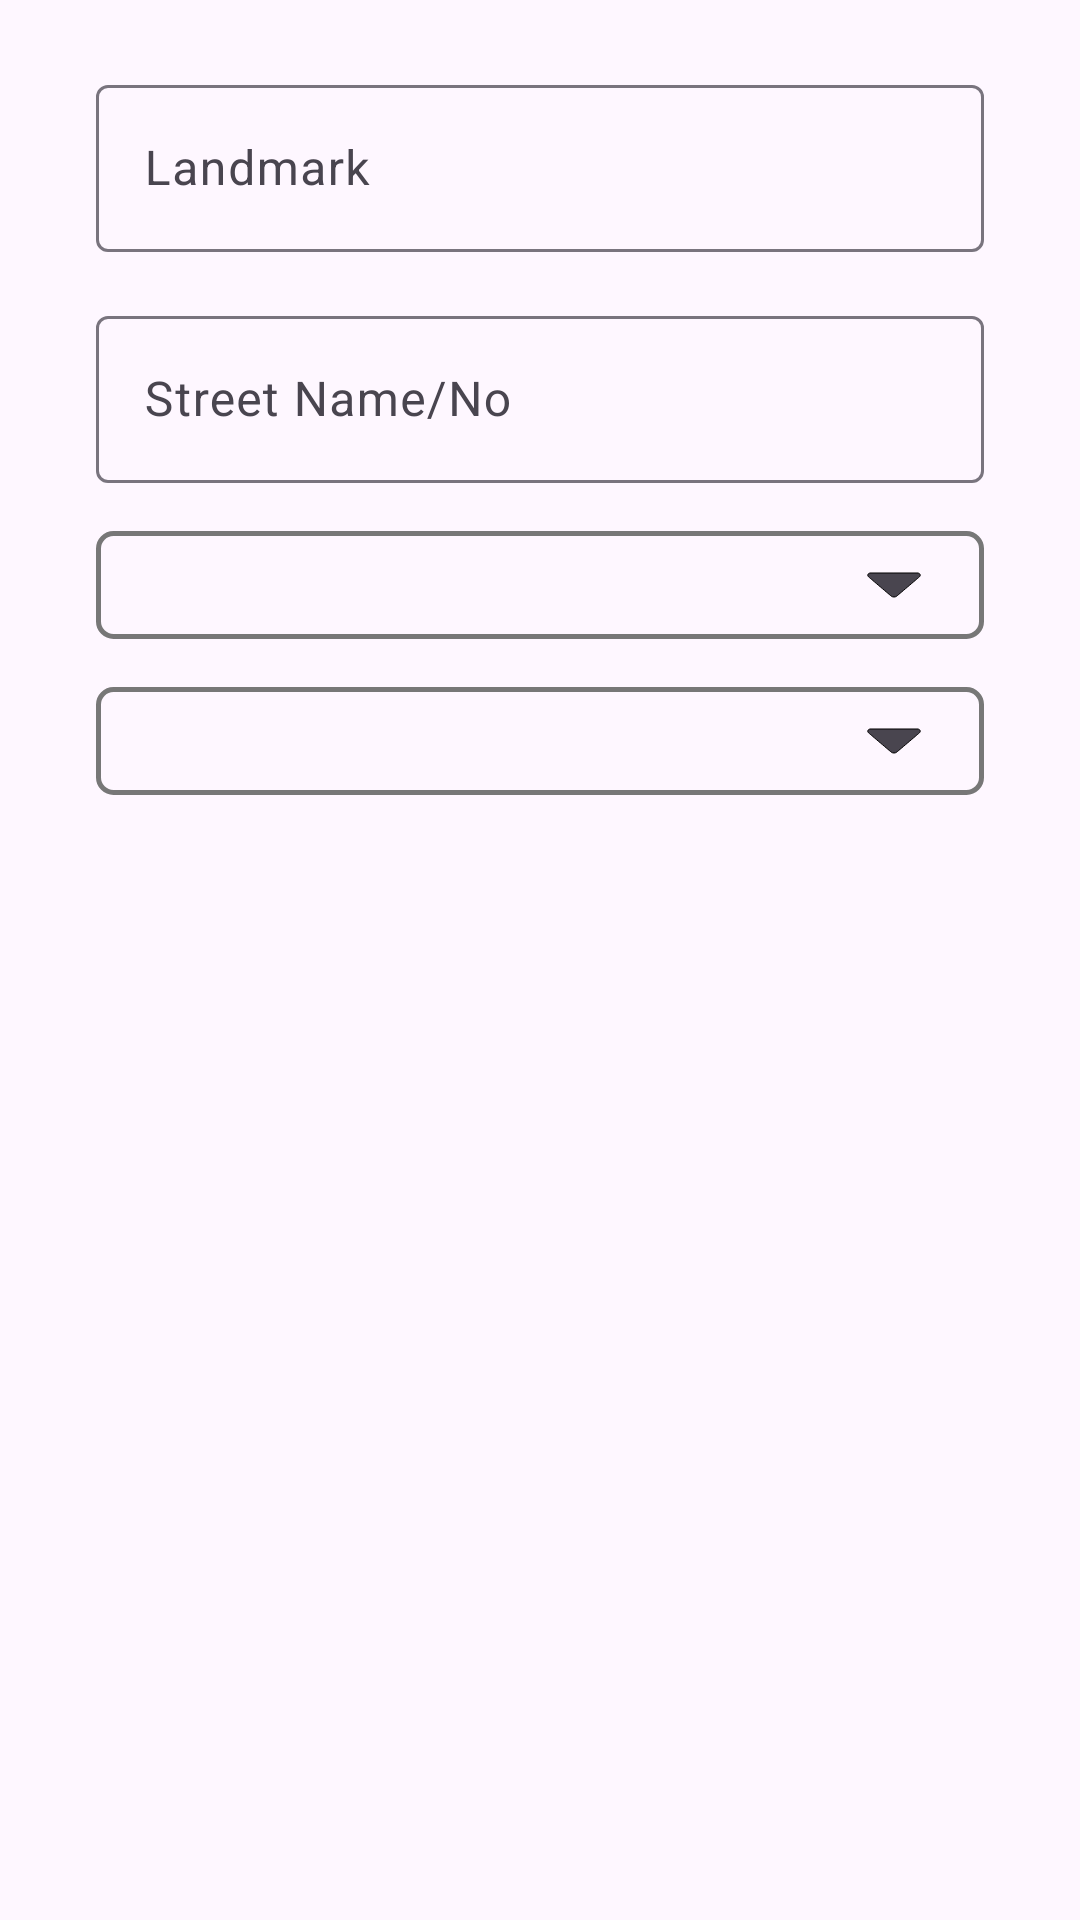

Icons on this 1080w x 1920h Android screen, each with its box as (x1, y1, x2, y2):
down: (867, 572, 921, 598), (867, 728, 921, 754)
